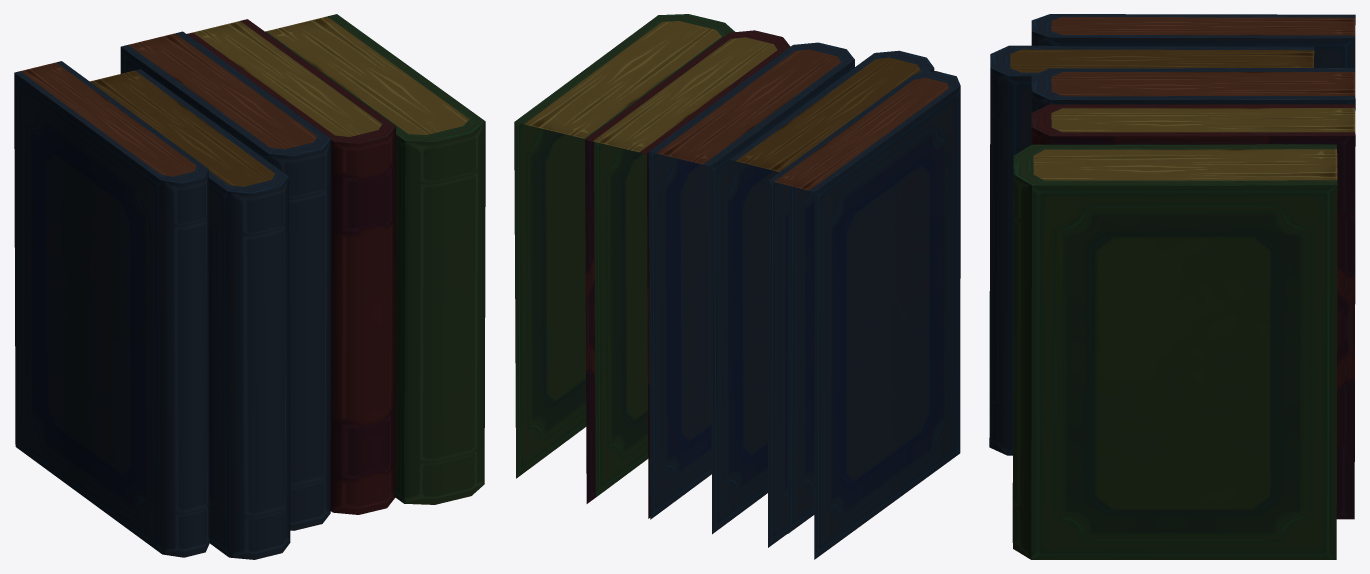
File: BookGroup_Small_3.gltf
3 renders of one model, left to right at view 1: azimuth 30°, elevation 25°; view 2: azimuth 150°, elevation 25°; view 3: azimuth 270°, elevation 25°, orthographic. The views are drawn at different scales.
Visible parts, largest first — view 1: BookGroup_Small_3; view 2: BookGroup_Small_3; view 3: BookGroup_Small_3.
Boxes of the visible parts, box(x1,y1,x2,y2) form: BookGroup_Small_3: box(14, 14, 485, 559); BookGroup_Small_3: box(514, 14, 960, 559); BookGroup_Small_3: box(989, 14, 1355, 559).
Size of the model in its own units: 0.2448 by 0.2774 by 0.2372.
1 material, 1 textured.
